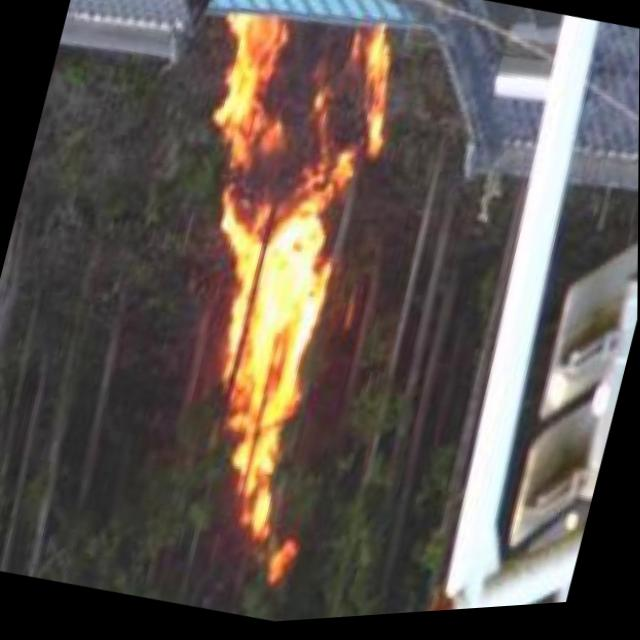Fire: (99, 0, 410, 580)
